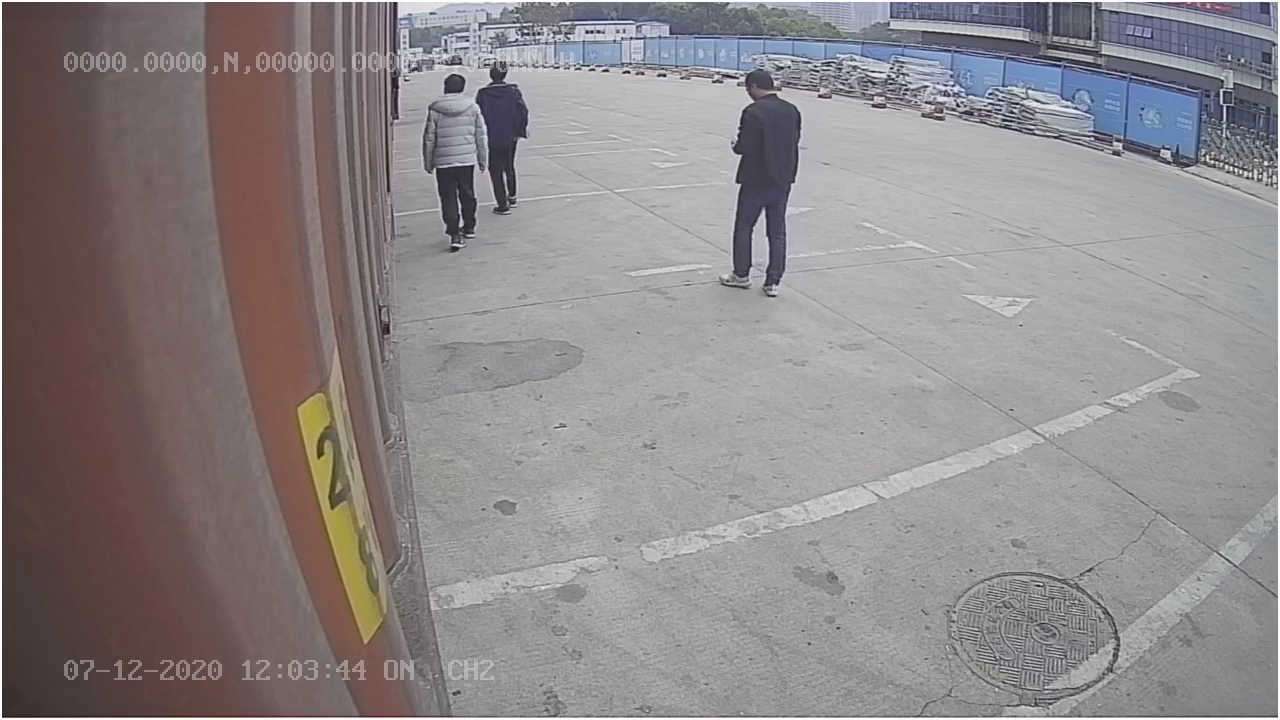person: (719, 62, 802, 301)
